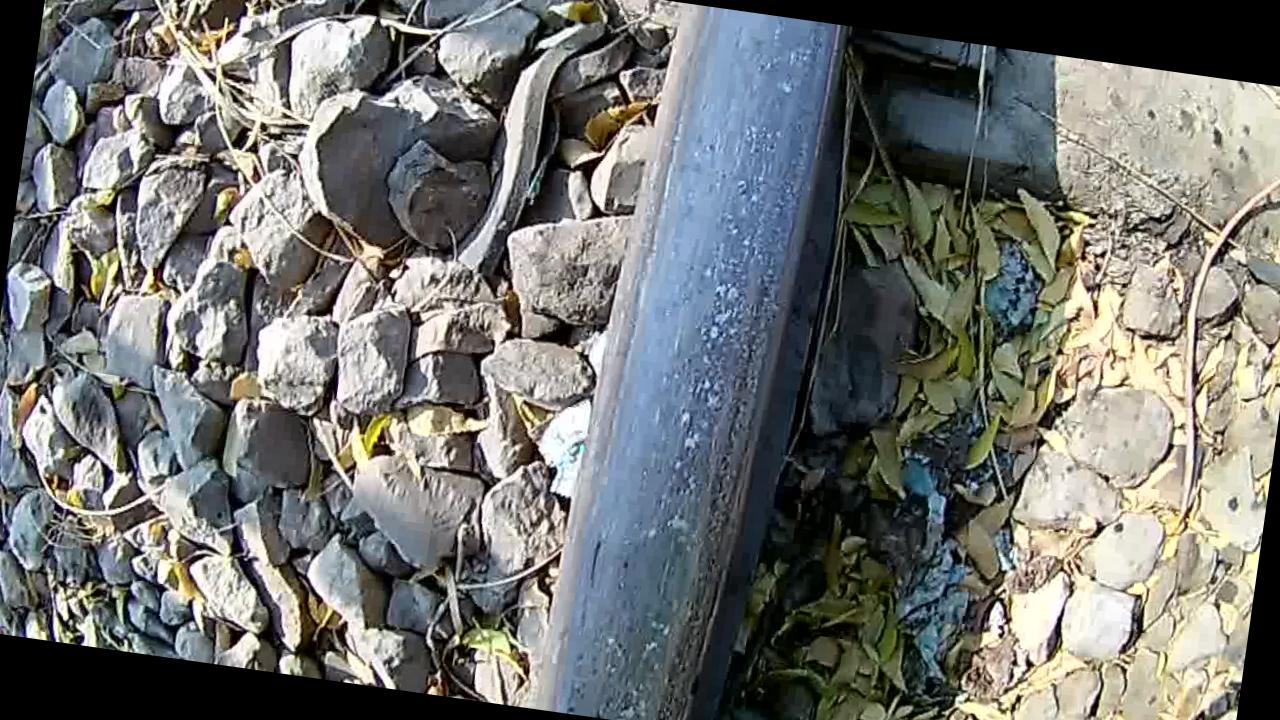bolt_missing: (541, 441, 749, 720)
